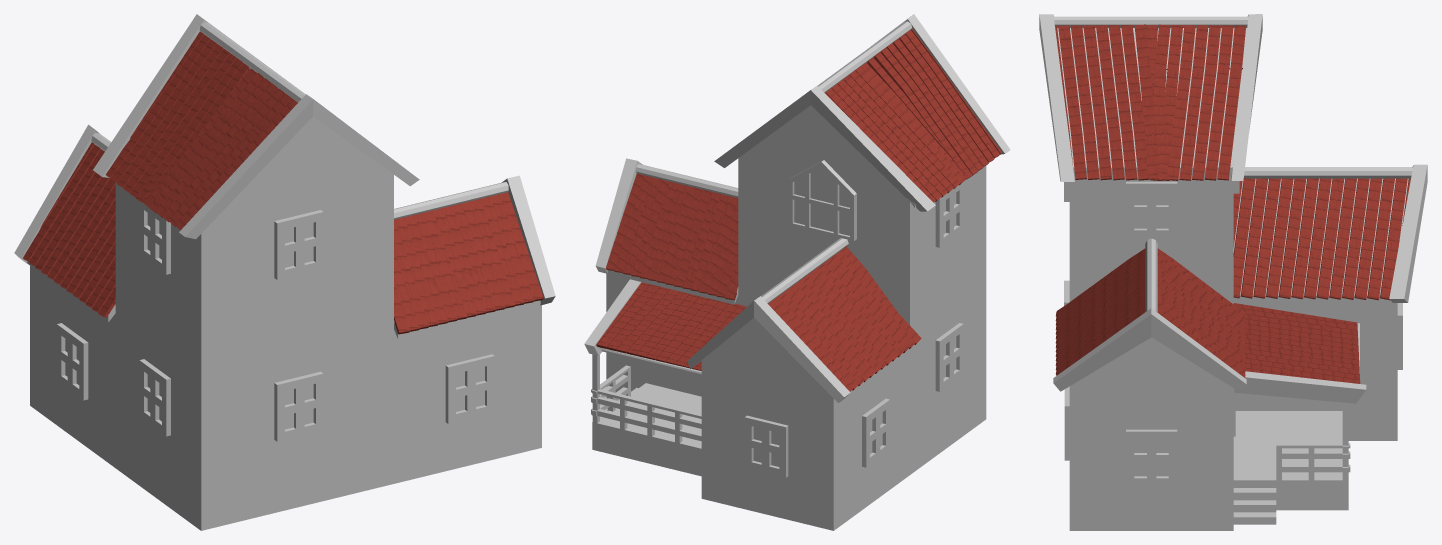
The model's file is casa_low-poly2.fbx.
3 renders of one model, left to right at view 1: azimuth 30°, elevation 25°; view 2: azimuth 150°, elevation 25°; view 3: azimuth 270°, elevation 25°, orthographic. The views are drawn at different scales.
Parts seen in each view (by area): view 1: estrutura, telhas, madeiras, vidros; view 2: estrutura, telhas, madeiras, sacada, vidros; view 3: telhas, estrutura, madeiras, sacada, vidros.
Part boxes in pixels (box(x1,y1,x2,y2)): estrutura: box(30, 116, 541, 530); telhas: box(23, 31, 543, 334); madeiras: box(14, 14, 555, 441); vidros: box(65, 213, 484, 429); estrutura: box(606, 105, 986, 530); telhas: box(596, 29, 1001, 391); madeiras: box(584, 14, 1010, 477); sacada: box(592, 383, 701, 476); vidros: box(753, 167, 956, 466); telhas: box(1055, 24, 1410, 383); estrutura: box(1069, 175, 1397, 530); madeiras: box(1039, 14, 1427, 485); sacada: box(1233, 411, 1348, 524); vidros: box(1134, 191, 1168, 476).
Size of the model in its own units: 2585 by 2707 by 2365.
